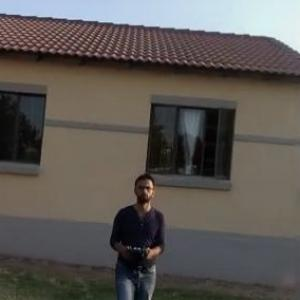follow: (108, 170, 171, 299)
